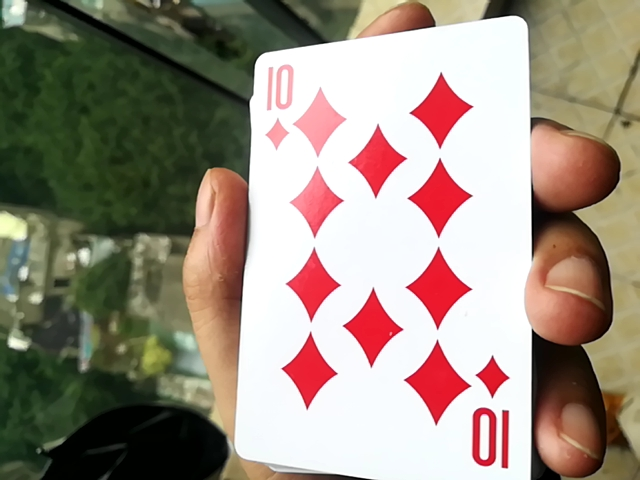fk 10: (242, 23, 542, 478)
